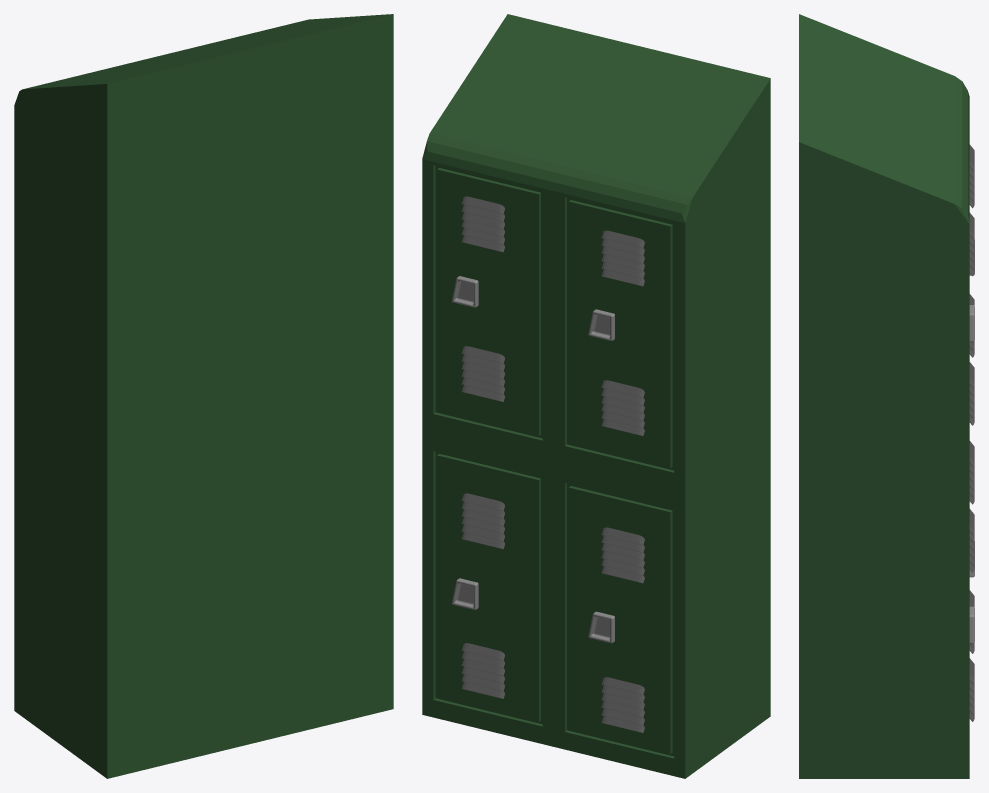
Rendered from Locker.fbx.
The picture shows the model from 3 angles, left to right: view 1: azimuth 30°, elevation 25°; view 2: azimuth 150°, elevation 25°; view 3: azimuth 270°, elevation 25°; orthographic projection. The views are drawn at different scales.
Visible parts, largest first — view 1: Locker; view 2: Locker, Vents, Handles; view 3: Locker, Vents, Handles.
Boxes of the visible parts, bbox=[...] form: Locker: bbox=[14, 14, 393, 778]; Locker: bbox=[422, 14, 770, 778]; Vents: bbox=[461, 196, 644, 732]; Handles: bbox=[452, 276, 614, 643]; Locker: bbox=[799, 14, 969, 778]; Vents: bbox=[969, 144, 974, 721]; Handles: bbox=[969, 240, 974, 643].
Size of the model in its own units: 200 by 464 by 116.
